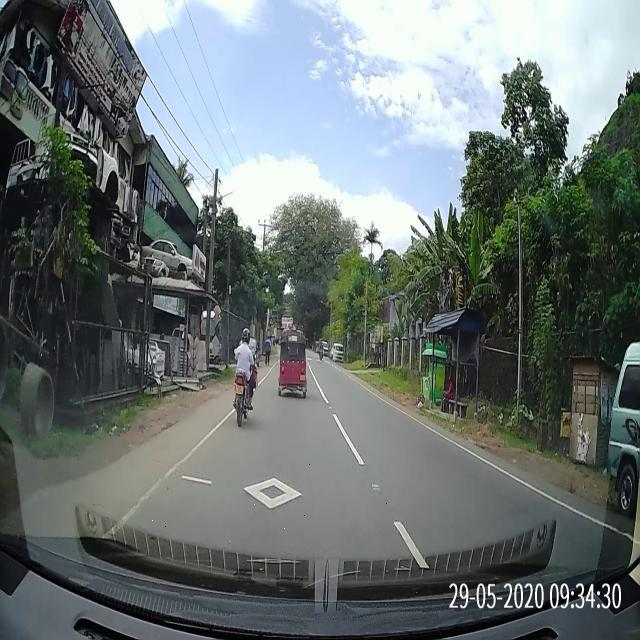diamond: (140, 463, 402, 530)
